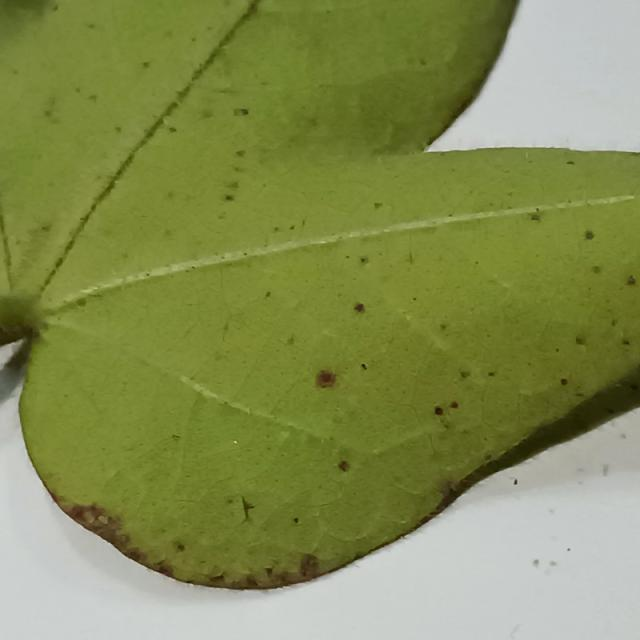Bacterial_Blight: (452, 273, 518, 340), (180, 390, 220, 461), (326, 497, 382, 540), (303, 364, 355, 395), (516, 199, 556, 237), (382, 309, 416, 344), (346, 293, 382, 325), (394, 469, 433, 498), (424, 321, 457, 355), (430, 426, 459, 454), (267, 290, 302, 313), (331, 451, 357, 477), (432, 488, 456, 514), (69, 504, 98, 525), (433, 401, 458, 420), (239, 495, 257, 521), (440, 480, 459, 501), (300, 554, 319, 573), (127, 549, 147, 564), (285, 571, 304, 584), (157, 565, 174, 578), (200, 108, 215, 120), (209, 574, 225, 584), (518, 388, 534, 398), (174, 541, 186, 553), (625, 274, 637, 286), (307, 116, 320, 127), (245, 577, 259, 587), (234, 107, 249, 116), (354, 302, 366, 313), (54, 257, 65, 268), (459, 369, 471, 379), (222, 318, 230, 333), (263, 565, 275, 575), (408, 244, 414, 264), (575, 336, 586, 346), (285, 335, 295, 346), (76, 298, 87, 308), (584, 230, 595, 240), (227, 180, 239, 189), (40, 224, 52, 233), (434, 406, 444, 416), (425, 136, 435, 146), (591, 265, 602, 274), (87, 93, 98, 102), (312, 507, 321, 518), (359, 256, 369, 265), (373, 201, 383, 210), (235, 149, 246, 157), (43, 109, 52, 118), (560, 377, 569, 386), (171, 434, 181, 442), (439, 323, 448, 331), (419, 57, 427, 66), (449, 401, 458, 409), (224, 194, 234, 201), (114, 126, 122, 134), (142, 61, 150, 69), (168, 126, 177, 133), (87, 23, 96, 30), (623, 339, 631, 346), (611, 319, 618, 327), (264, 291, 271, 298), (485, 454, 492, 461), (487, 371, 496, 376), (566, 160, 575, 165), (293, 517, 299, 524), (361, 363, 367, 370), (273, 226, 279, 232), (289, 225, 295, 231), (635, 384, 640, 391), (412, 296, 417, 301)
Cotton: (0, 0, 639, 588)
